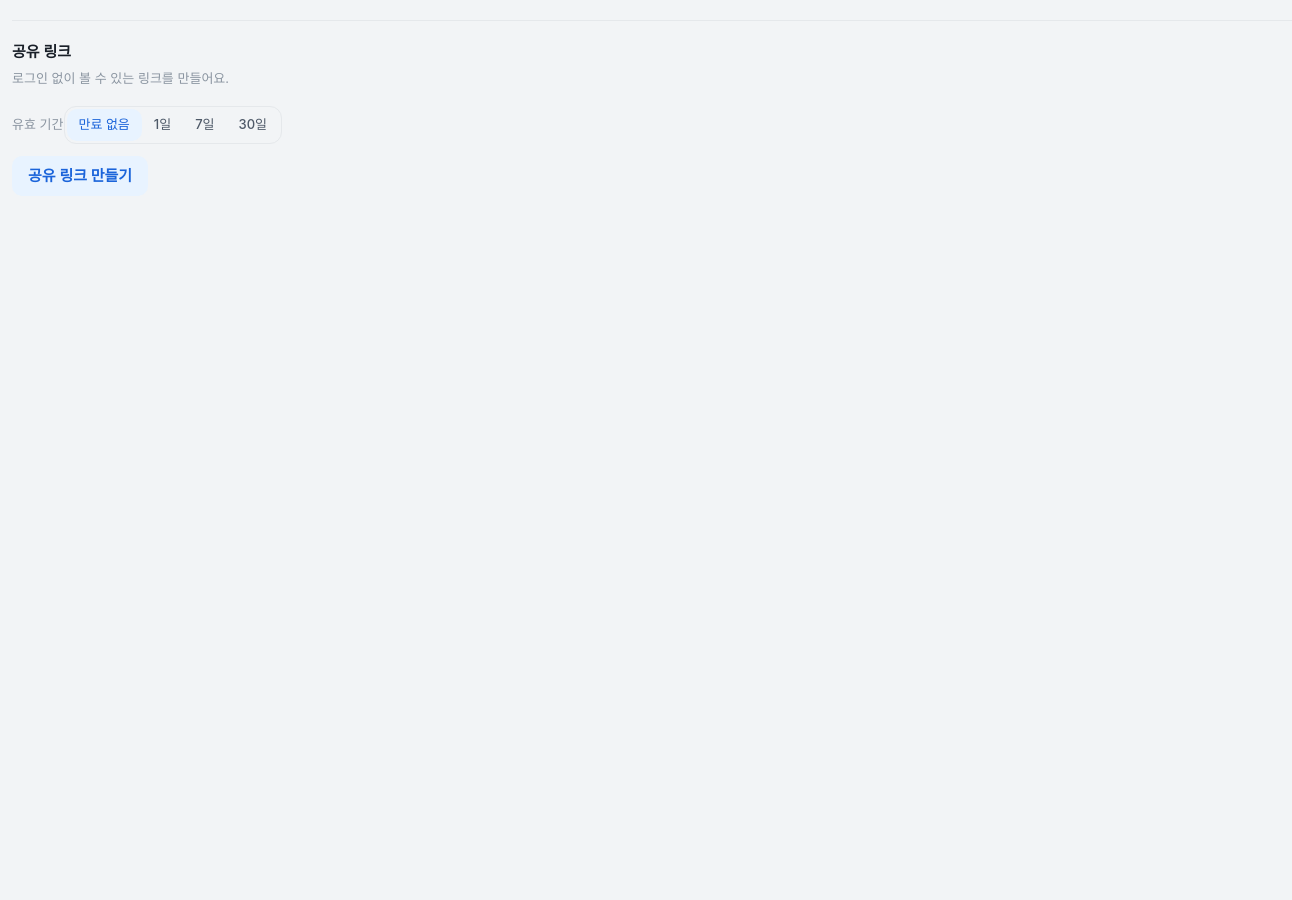
Test: SharePanel › shows a toast on create failure
Click the button "공유 링크 만들기" at (80, 176), box x1=12 y1=156 x2=148 y2=196
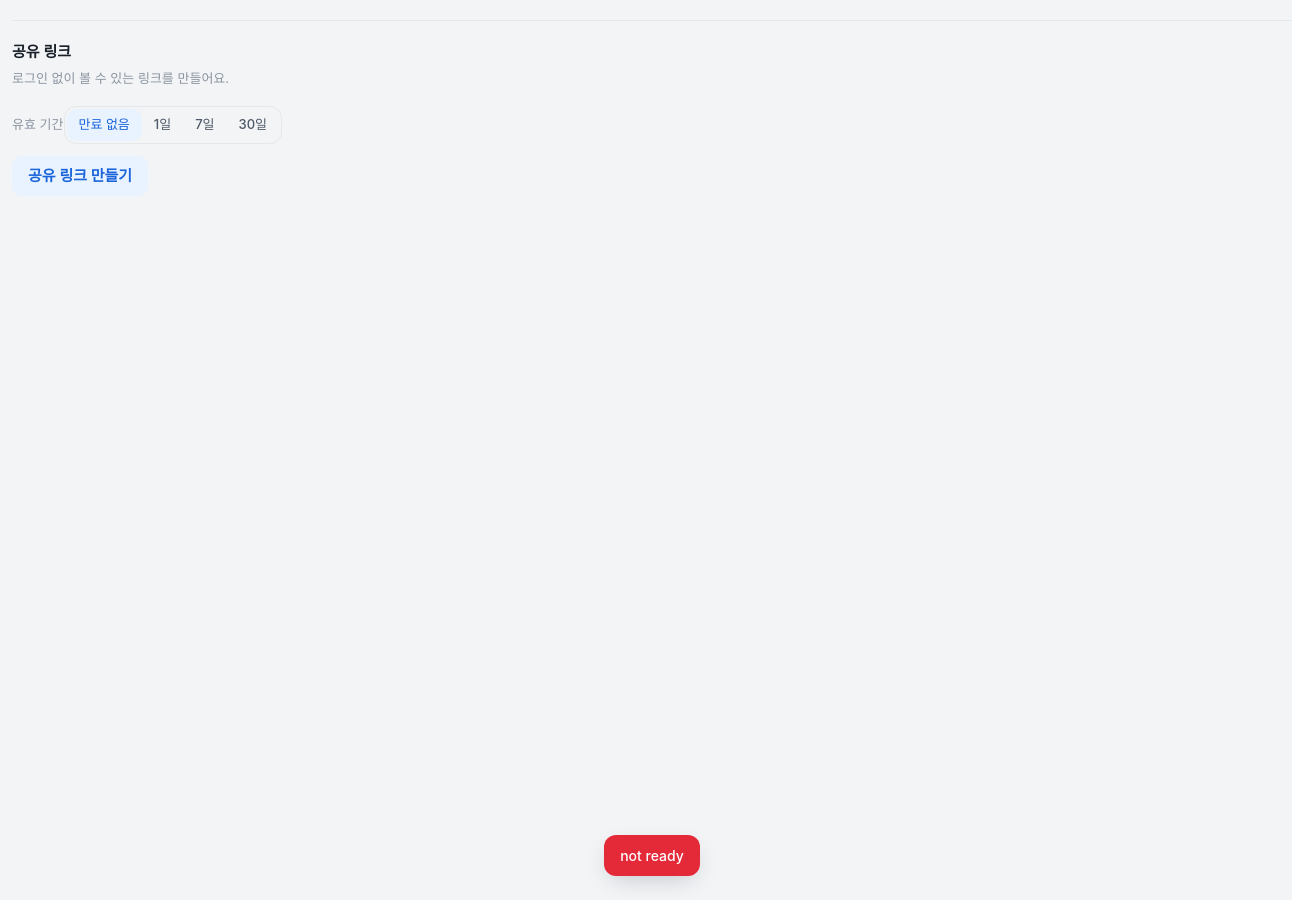
Now the text "not ready" is shown, box x1=604 y1=835 x2=700 y2=876
